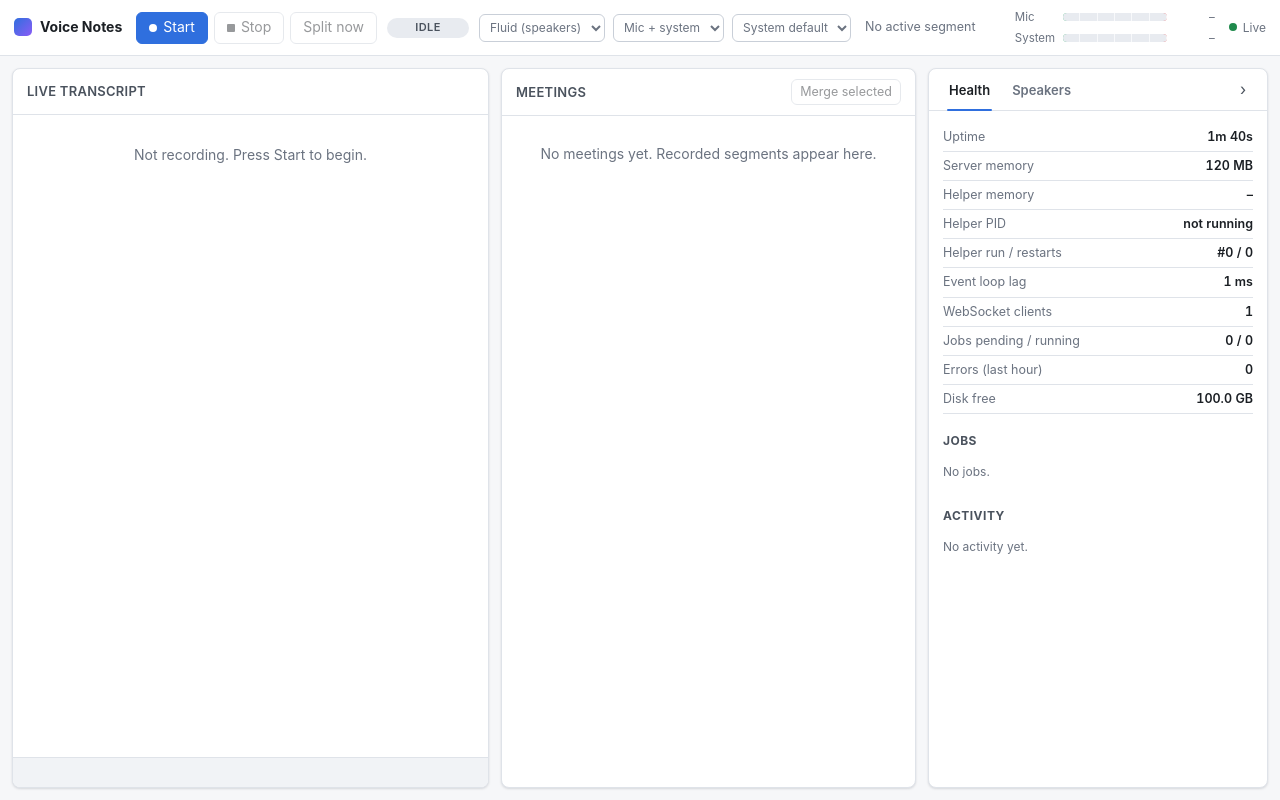
Test: App › collapses the side panel into a rail and remembers it
The width and height of the screenshot is (1280, 800).
Later steps or results of the test are not shown.
Expected: the tab with test id "tab-health" is shown, [939, 69, 1000, 110]
Click the button with test id "side-toggle". click: {"x": 1243, "y": 89}
box: [1229, 75, 1257, 103]
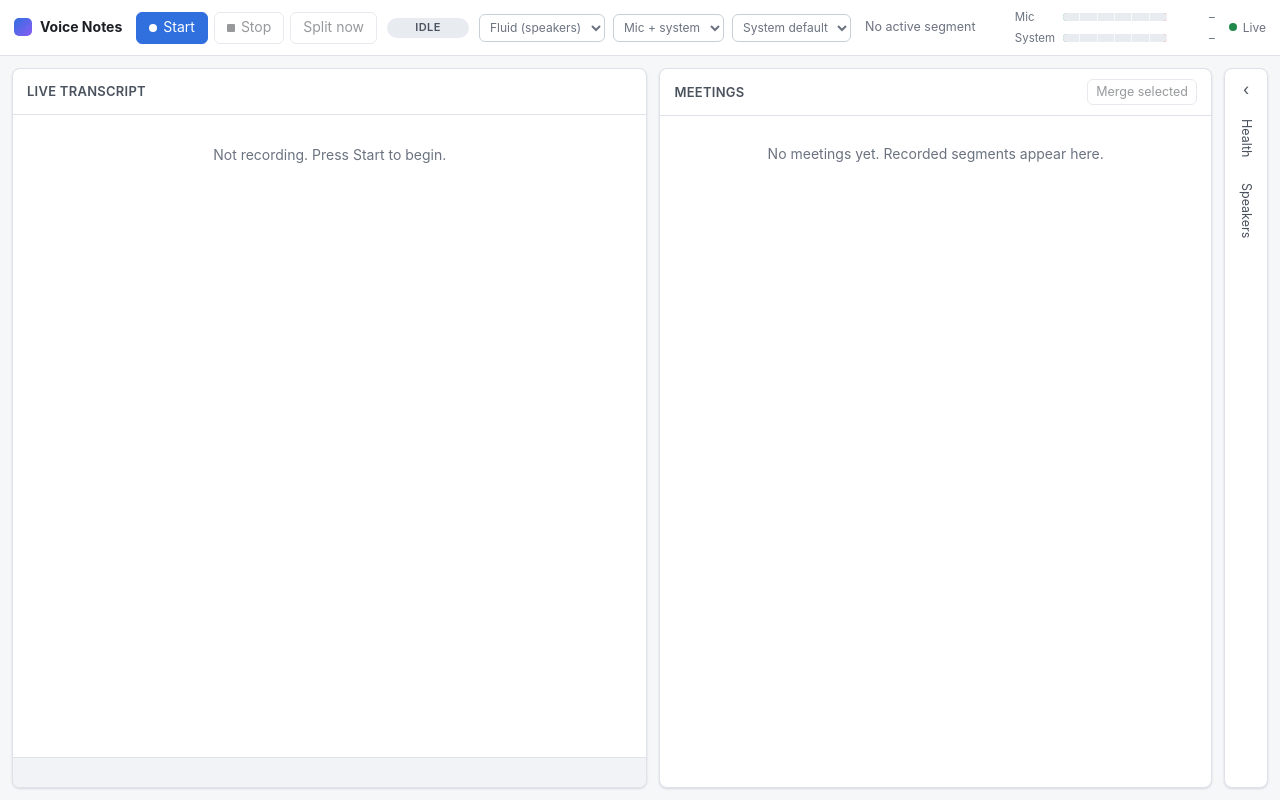
Expected: the element with test id "side-rail" is shown, [1224, 68, 1268, 788]
Expected: the tab with test id "tab-health" is gone
